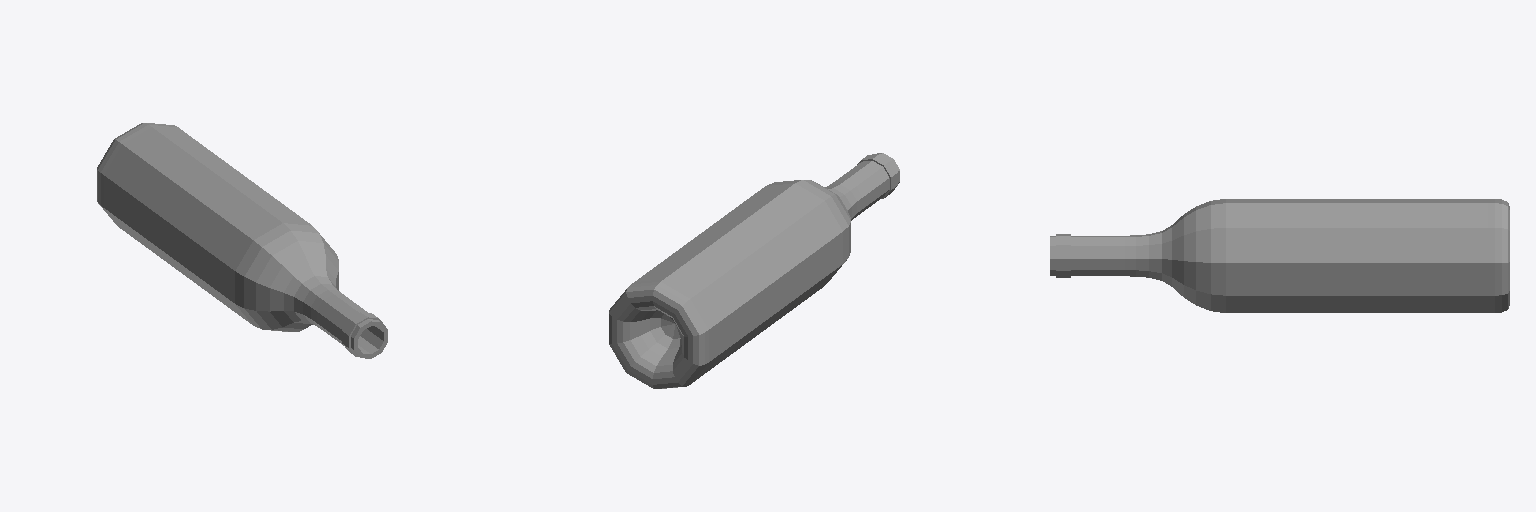
Rendered from bottle3.obj.
3 renders of one model, left to right at view 1: azimuth 30°, elevation 25°; view 2: azimuth 150°, elevation 25°; view 3: azimuth 270°, elevation 25°, orthographic.
Visible parts, largest first — view 1: Curve_Mesh.001; view 2: Curve_Mesh.001; view 3: Curve_Mesh.001.
Part boxes in pixels (left/top/right/bottom): Curve_Mesh.001: left=97, top=123, right=387, bottom=358; Curve_Mesh.001: left=609, top=153, right=899, bottom=388; Curve_Mesh.001: left=1050, top=199, right=1509, bottom=312.
Bounding box in the file's own units: 0.0726 × 0.0763 × 0.3012.